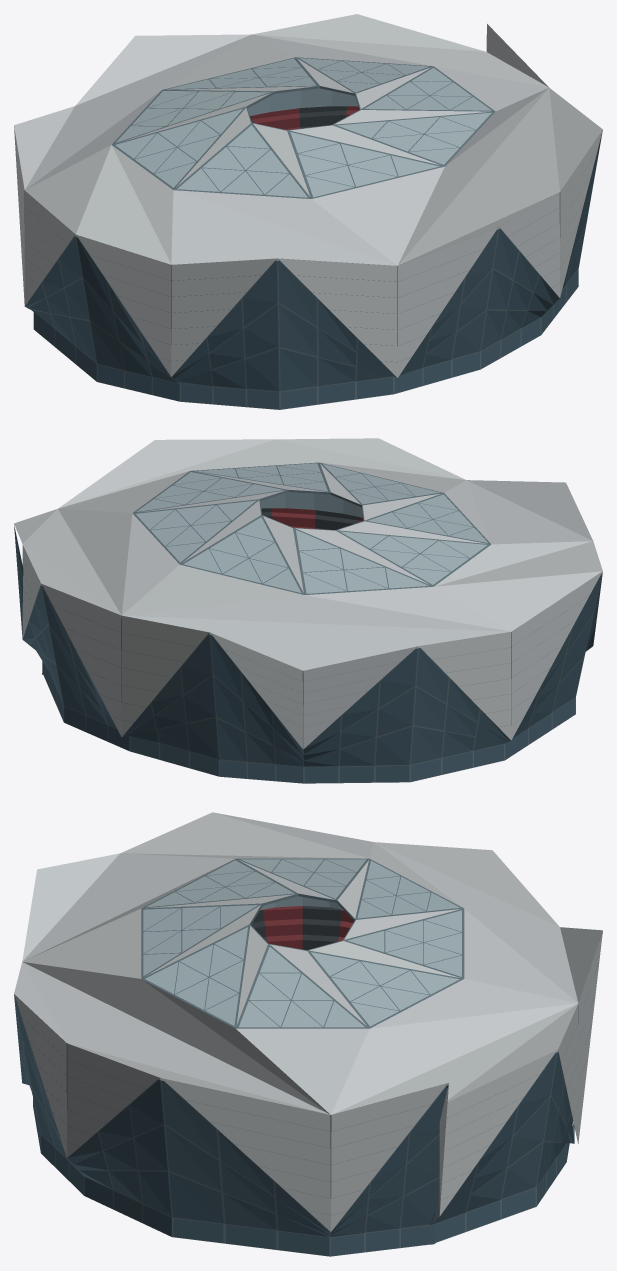
The model's file is mercedes-benz-stadium-far.glb.
3 views of the same model, one above another, from view 1: azimuth 30°, elevation 25°; view 2: azimuth 150°, elevation 25°; view 3: azimuth 270°, elevation 25° (orthographic). The views are drawn at different scales.
Parts seen in each view (by area): view 1: mercedes-benz-stadium-0-silver, mercedes-benz-stadium-0-glass, mercedes-benz-stadium-0-roof, mercedes-benz-stadium-0-frame, mercedes-benz-stadium-0-glow, mercedes-benz-stadium-0-dark, mercedes-benz-stadium-0-seating; view 2: mercedes-benz-stadium-0-silver, mercedes-benz-stadium-0-glass, mercedes-benz-stadium-0-roof, mercedes-benz-stadium-0-frame, mercedes-benz-stadium-0-glow, mercedes-benz-stadium-0-seating, mercedes-benz-stadium-0-dark; view 3: mercedes-benz-stadium-0-silver, mercedes-benz-stadium-0-glass, mercedes-benz-stadium-0-roof, mercedes-benz-stadium-0-frame, mercedes-benz-stadium-0-dark, mercedes-benz-stadium-0-seating, mercedes-benz-stadium-0-glow.
Part boxes in pixels (<box>): mercedes-benz-stadium-0-silver: <box>14,14,602,377</box>; mercedes-benz-stadium-0-glass: <box>25,133,602,409</box>; mercedes-benz-stadium-0-roof: <box>115,58,491,197</box>; mercedes-benz-stadium-0-frame: <box>24,57,601,409</box>; mercedes-benz-stadium-0-glow: <box>247,88,358,115</box>; mercedes-benz-stadium-0-dark: <box>250,106,347,128</box>; mercedes-benz-stadium-0-seating: <box>251,106,359,130</box>; mercedes-benz-stadium-0-silver: <box>14,438,602,748</box>; mercedes-benz-stadium-0-glass: <box>14,526,602,783</box>; mercedes-benz-stadium-0-roof: <box>136,463,487,593</box>; mercedes-benz-stadium-0-frame: <box>14,462,602,783</box>; mercedes-benz-stadium-0-glow: <box>260,492,362,517</box>; mercedes-benz-stadium-0-seating: <box>271,508,363,528</box>; mercedes-benz-stadium-0-dark: <box>42,508,360,674</box>; mercedes-benz-stadium-0-silver: <box>14,812,602,1231</box>; mercedes-benz-stadium-0-glass: <box>14,997,574,1255</box>; mercedes-benz-stadium-0-roof: <box>143,859,461,1027</box>; mercedes-benz-stadium-0-frame: <box>14,858,602,1256</box>; mercedes-benz-stadium-0-dark: <box>251,906,448,1219</box>; mercedes-benz-stadium-0-seating: <box>263,906,354,949</box>; mercedes-benz-stadium-0-glow: <box>260,896,342,909</box>.
Bounding box in the file's own units: 276 × 93 × 246.
